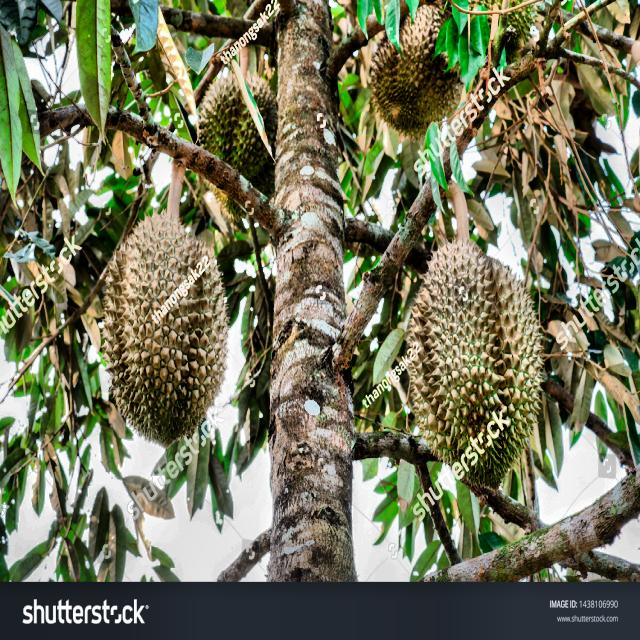arvore: (252, 0, 367, 569)
